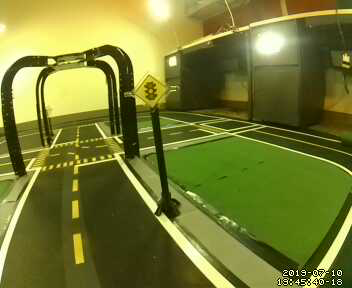Traffic light sign: (133, 73, 167, 107)
